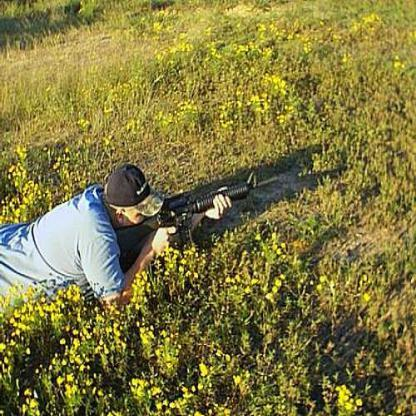rifle: (111, 171, 285, 292)
